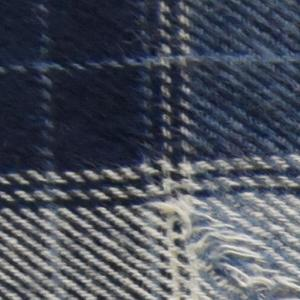Damage: (149, 170, 300, 300)
